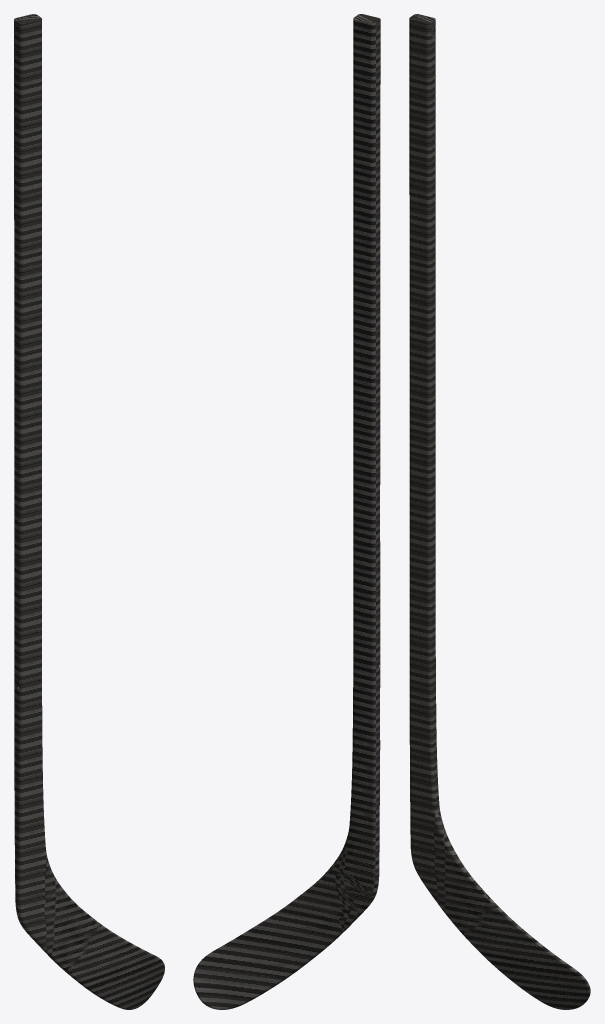
3 renders of one model, left to right at view 1: azimuth 30°, elevation 25°; view 2: azimuth 150°, elevation 25°; view 3: azimuth 330°, elevation 25°, orthographic. The views are drawn at different scales.
Parts seen in each view (by area): view 1: geometry_0; view 2: geometry_0; view 3: geometry_0.
Part boxes in pixels (x1,y1,x2,y2): geometry_0: (14, 14, 164, 1009); geometry_0: (193, 14, 380, 1009); geometry_0: (409, 14, 590, 1009).
Bounding box in the file's own units: 218 × 1281 × 64.27.
Materials: 1 (1 with a texture image).
